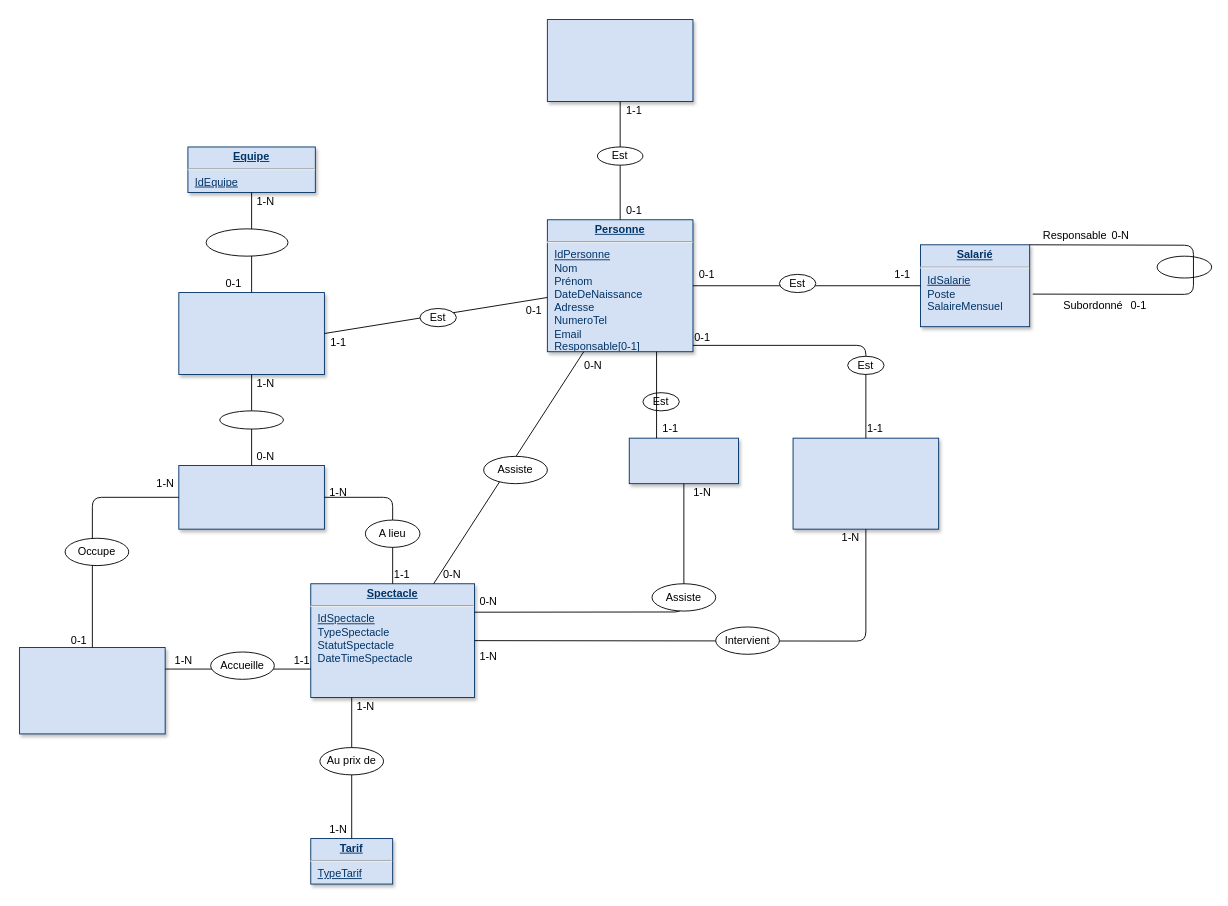
Image size: 1228x906. Some labels were removed from this diagram. Here are the shapes that lost their labels. From the top down, the centre of each, then its label:
At (x=620, y=61): "Membre de l'association IdMembre Poste".
At (x=246, y=242): "Fait partie".
At (x=1184, y=266): "Supervise".
At (x=252, y=334): "Bénévole IdBenevole DureeMission DomaineActivite StatutResponsabilite".
At (x=251, y=419): "Participe".
At (x=684, y=462): "Abonné IdAbonne".
At (x=252, y=498): "Evènement IdEvenement StatutEvenement".
At (x=866, y=485): "Artiste IdArtiste Metier".
At (x=93, y=691): "Salle NumSalle NombrePlaces StatutSalle".
